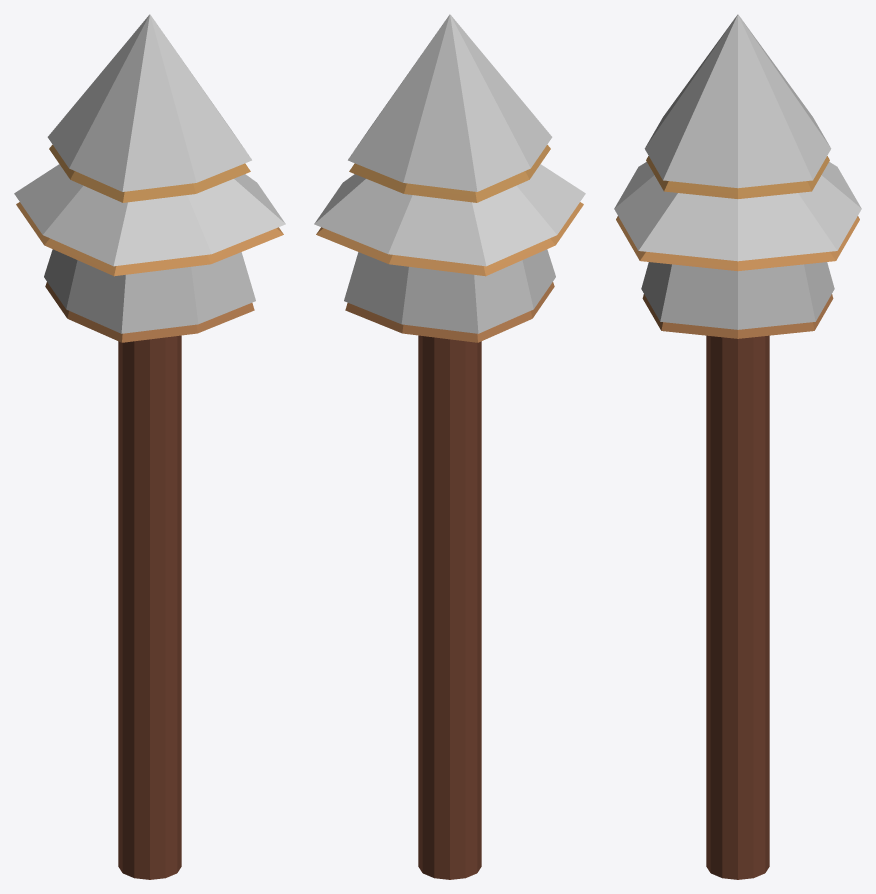
The model's file is Tree_20_winter_gradient_yellow_vc.fbx.
3 renders of one model, left to right at view 1: azimuth 30°, elevation 25°; view 2: azimuth 150°, elevation 25°; view 3: azimuth 270°, elevation 25°, orthographic.
Parts seen in each view (by area): view 1: Tree_20_winter_gradient_yellow_vc; view 2: Tree_20_winter_gradient_yellow_vc; view 3: Tree_20_winter_gradient_yellow_vc.
Part boxes in pixels (<box>): Tree_20_winter_gradient_yellow_vc: <box>14,14,285,879</box>; Tree_20_winter_gradient_yellow_vc: <box>314,14,585,879</box>; Tree_20_winter_gradient_yellow_vc: <box>614,14,861,879</box>.
Size of the model in its own units: 86.74 by 329 by 86.74.
